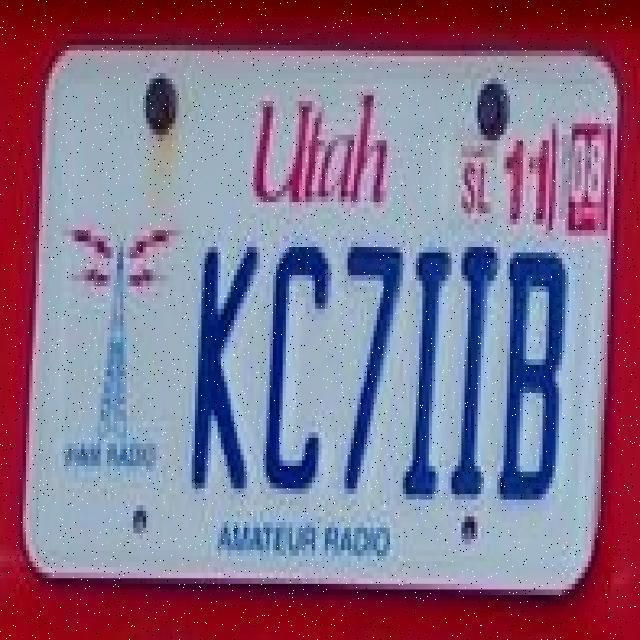LicensePlate: (9, 17, 629, 626)
